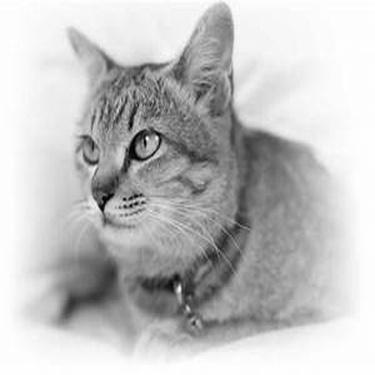cat: (44, 9, 359, 344)
